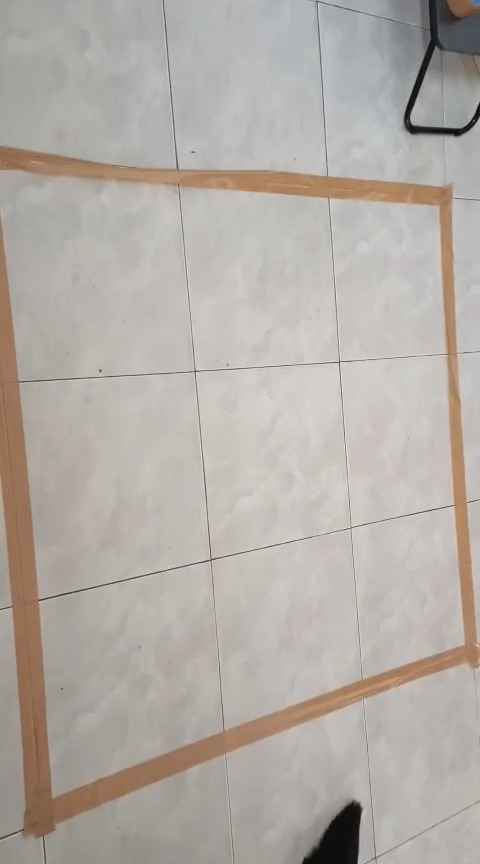floor marking: (0, 147, 479, 835)
